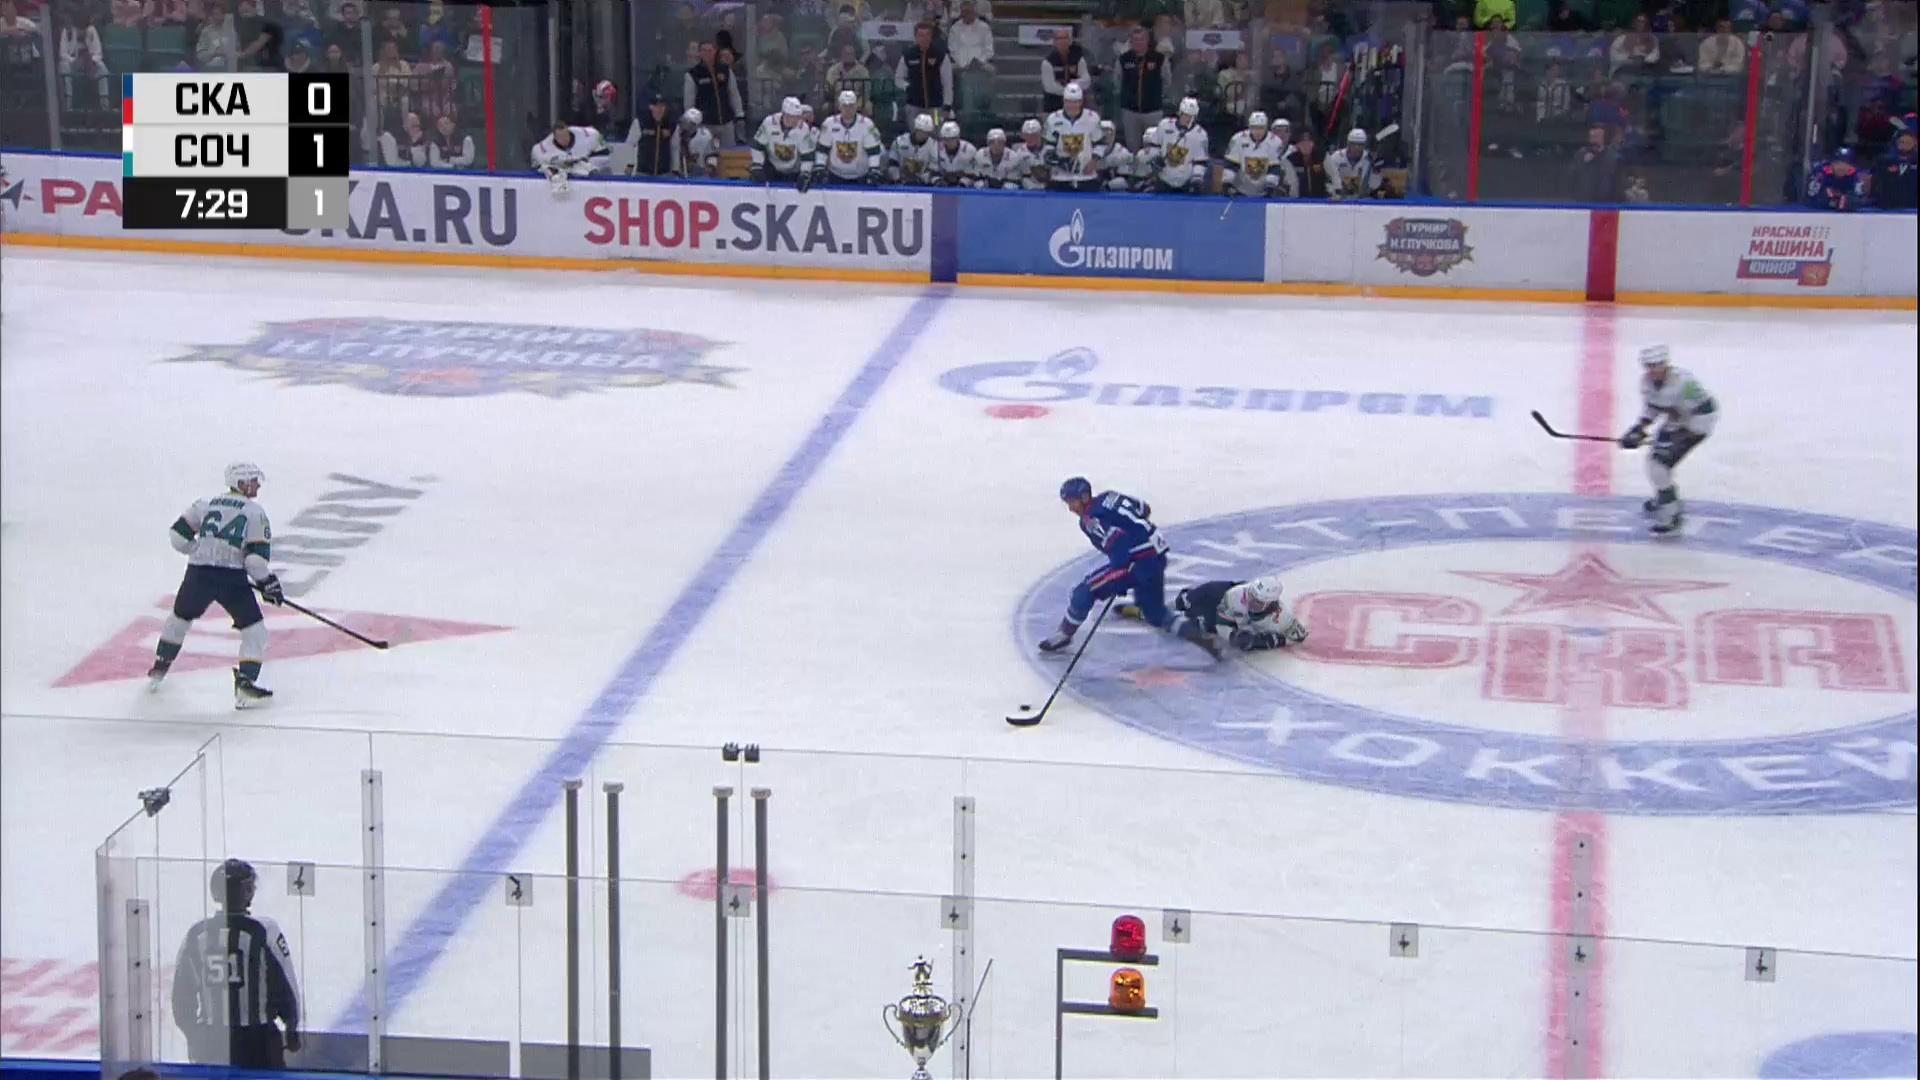ball: (1019, 704, 1031, 712)
